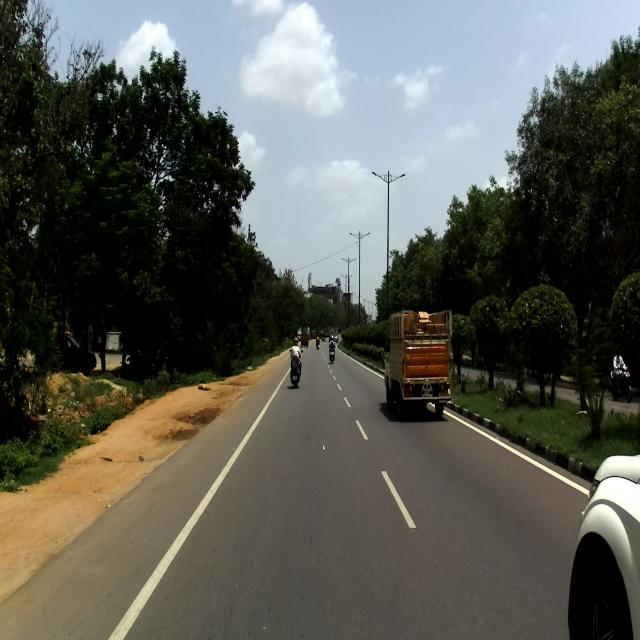scooter: (288, 346, 304, 385)
truck: (381, 306, 455, 416)
